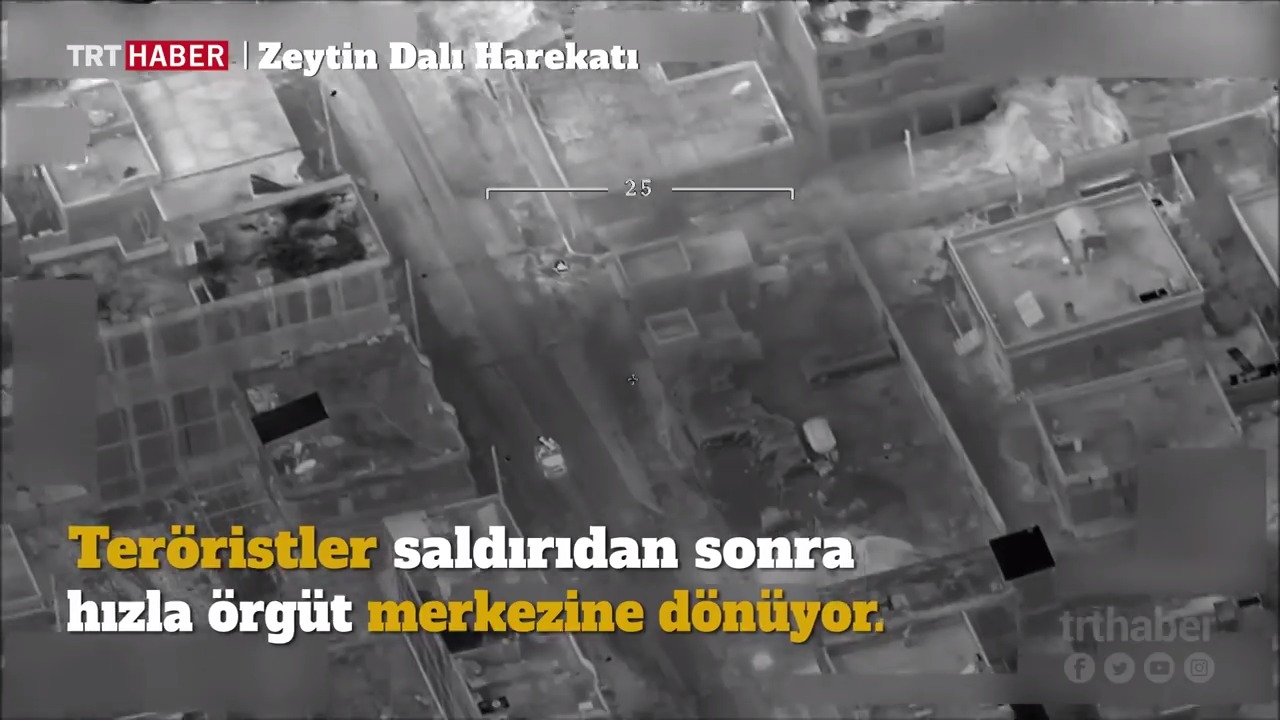arac: (526, 426, 588, 483)
bina: (926, 175, 1220, 395)
